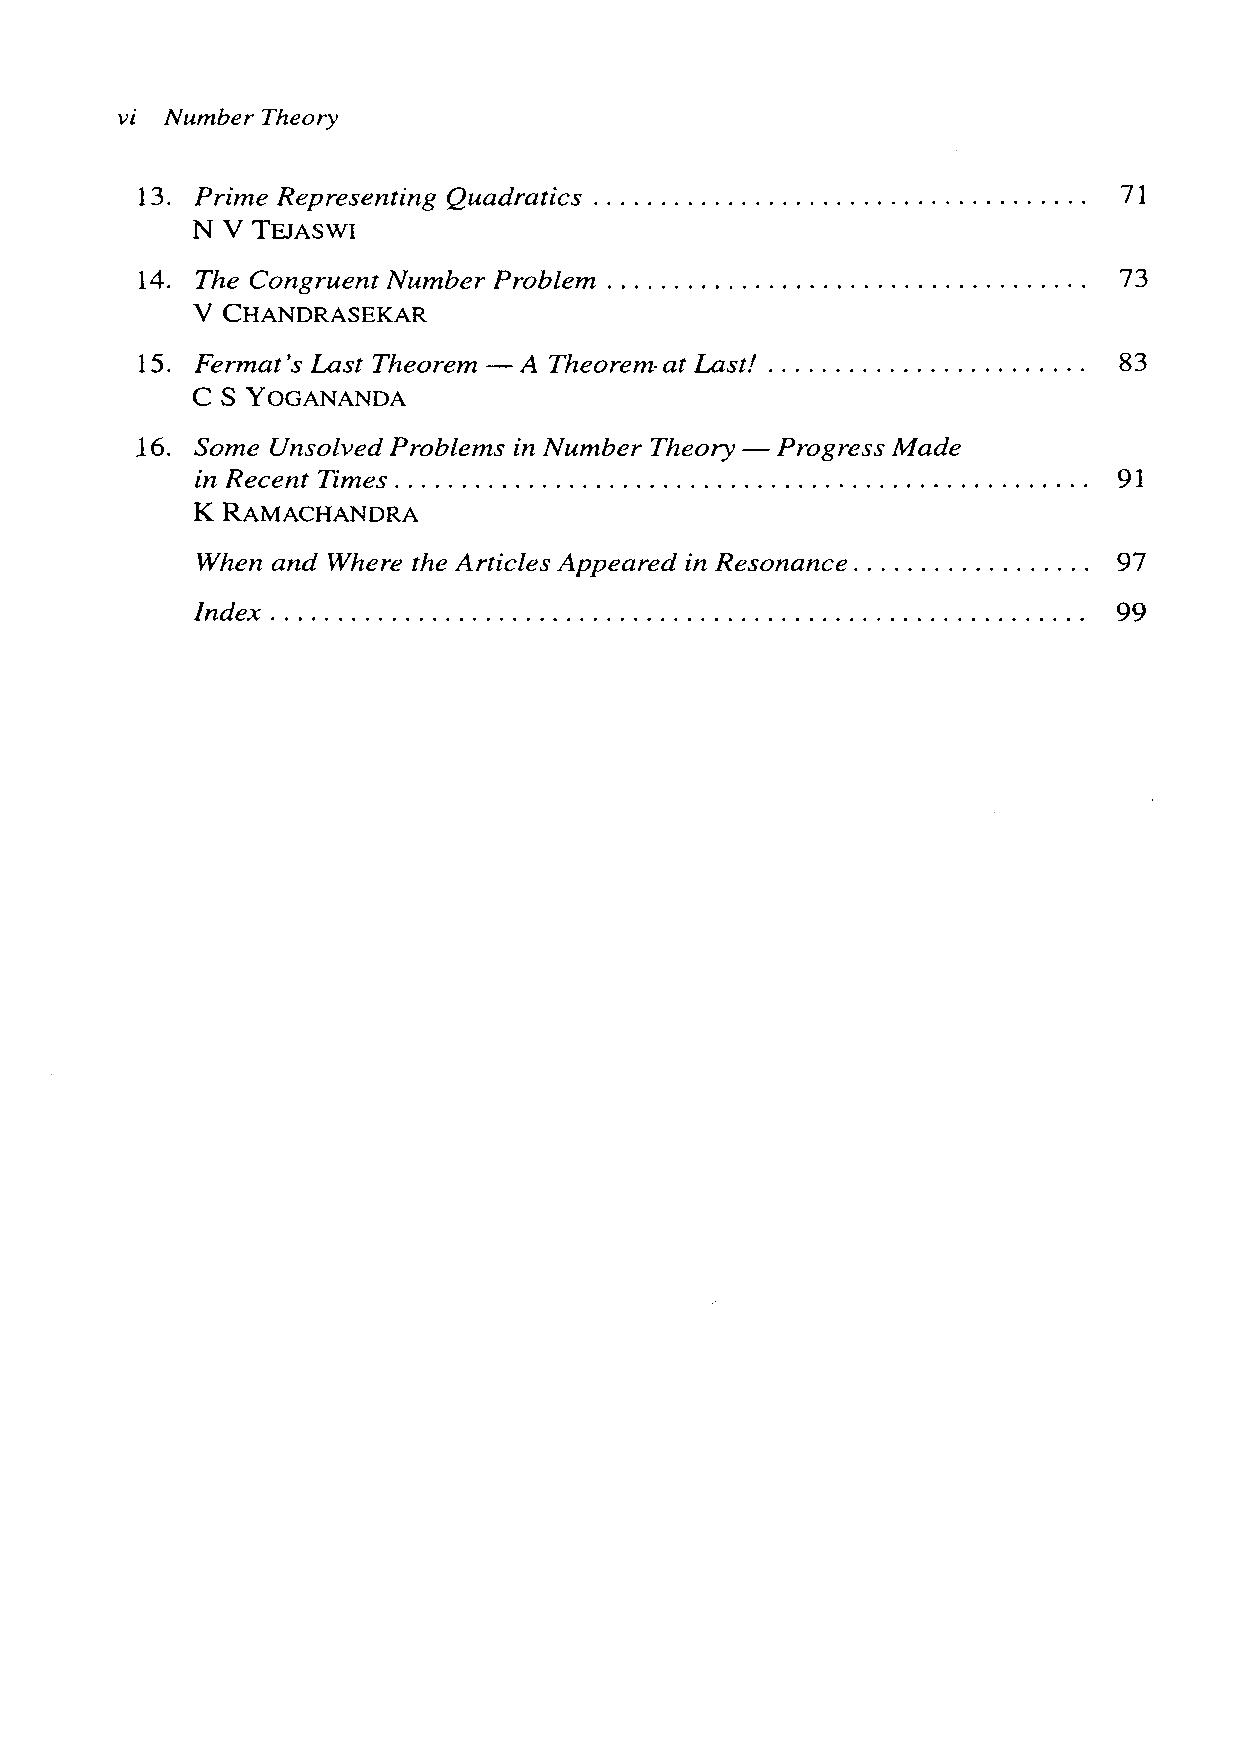TOC_chapter: (130, 429, 965, 493), (127, 348, 766, 404), (118, 166, 586, 242), (134, 264, 607, 323), (199, 541, 848, 578), (192, 586, 267, 628)
TOC_pagenumber: (1108, 596, 1154, 629), (1107, 539, 1150, 573), (1111, 260, 1151, 289), (1117, 459, 1145, 497), (1118, 170, 1145, 209), (1111, 349, 1149, 376)
